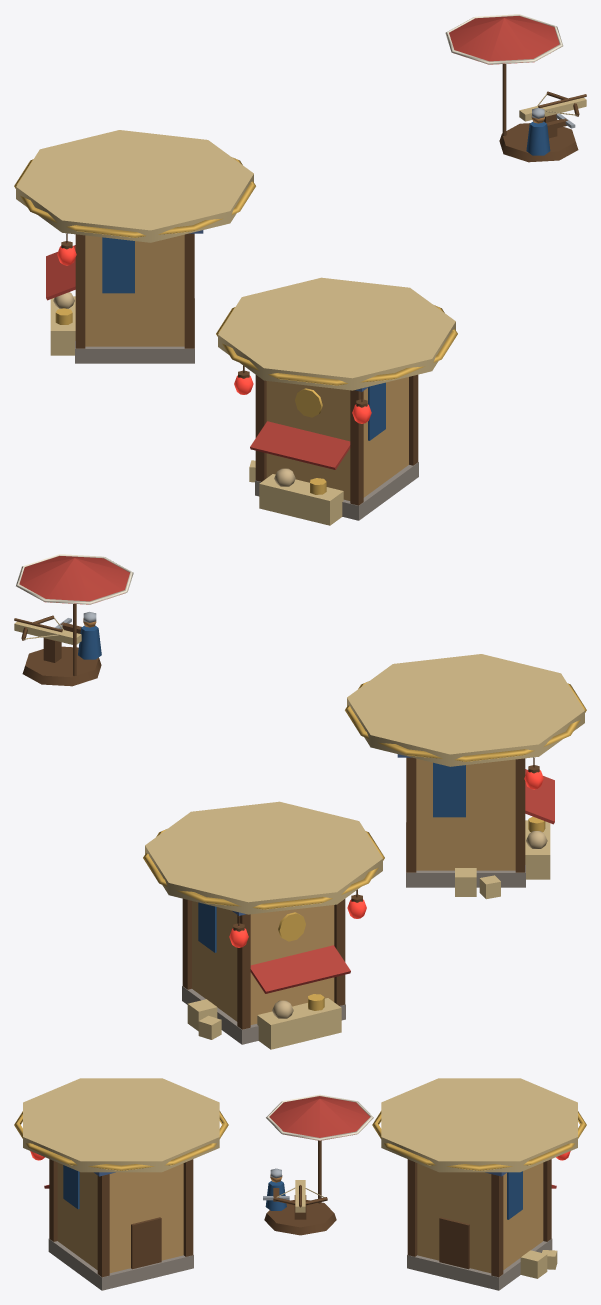
File: base_merchant_weapon_2.glb
3 renders of one model, top to bottom at view 1: azimuth 30°, elevation 25°; view 2: azimuth 150°, elevation 25°; view 3: azimuth 270°, elevation 25°, orthographic. The views are drawn at different scales.
Parts seen in each view (by area): view 1: tower_slot_2_plate, tower_slot_1_plate, tower_slot_1_house, tower_slot_2_house, parasol, tower_slot_2_awning, tower_slot_2_counter, tower_slot_1_plinth, tower_slot_1_banner, weapon_mount, tower_slot_2_plinth, tower_slot_2_trim (+11 smaller); view 2: tower_slot_1_plate, tower_slot_2_plate, tower_slot_2_house, tower_slot_1_house, parasol, tower_slot_1_awning, tower_slot_1_counter, weapon_mount, tower_slot_2_banner_2, tower_slot_2_plinth, tower_slot_1_trim, tower_slot_2_trim (+13 smaller); view 3: tower_slot_1_plate, tower_slot_2_plate, tower_slot_2_house, tower_slot_1_house, parasol, tower_slot_2_plinth, tower_slot_1_plinth, weapon_mount, tower_slot_1_door, tower_slot_2_door, tower_slot_1_post_2, tower_slot_2_post_3 (+12 smaller).
Part boxes in pixels (left/top/right/bottom): tower_slot_2_plate: left=218, top=277, right=455, bottom=390; tower_slot_1_plate: left=16, top=130, right=253, bottom=242; tower_slot_1_house: left=85, top=234, right=184, bottom=346; tower_slot_2_house: left=266, top=377, right=408, bottom=500; parasol: left=449, top=16, right=559, bottom=64; tower_slot_2_awning: left=250, top=421, right=350, bottom=469; tower_slot_2_counter: left=259, top=474, right=343, bottom=525; tower_slot_1_plinth: left=75, top=298, right=194, bottom=363; tower_slot_1_banner: left=102, top=237, right=134, bottom=293; weapon_mount: left=499, top=123, right=578, bottom=162; tower_slot_2_plinth: left=255, top=462, right=418, bottom=520; tower_slot_2_trim: left=216, top=305, right=457, bottom=385; tower_slot_1_plate: left=145, top=801, right=382, bottom=914; tower_slot_2_plate: left=347, top=654, right=584, bottom=766; tower_slot_2_house: left=416, top=758, right=515, bottom=870; tower_slot_1_house: left=192, top=901, right=334, bottom=1024; parasol: left=19, top=556, right=129, bottom=604; tower_slot_1_awning: left=250, top=945, right=350, bottom=993; tower_slot_1_counter: left=257, top=998, right=341, bottom=1049; weapon_mount: left=22, top=646, right=101, bottom=686; tower_slot_2_banner_2: left=433, top=762, right=465, bottom=817; tower_slot_2_plinth: left=406, top=822, right=525, bottom=887; tower_slot_1_trim: left=143, top=829, right=384, bottom=909; tower_slot_2_trim: left=345, top=681, right=586, bottom=761; tower_slot_1_plate: left=381, top=1078, right=577, bottom=1172; tower_slot_2_plate: left=23, top=1078, right=219, bottom=1172; tower_slot_2_house: left=57, top=1163, right=183, bottom=1273; tower_slot_1_house: left=417, top=1163, right=543, bottom=1273; parasol: left=269, top=1096, right=369, bottom=1140; tower_slot_2_plinth: left=48, top=1239, right=193, bottom=1290; tower_slot_1_plinth: left=407, top=1239, right=552, bottom=1290; weapon_mount: left=264, top=1200, right=336, bottom=1235; tower_slot_1_door: left=439, top=1217, right=469, bottom=1269; tower_slot_2_door: left=131, top=1217, right=161, bottom=1269; tower_slot_1_post_2: left=491, top=1174, right=503, bottom=1277; tower_slot_2_post_3: left=97, top=1174, right=109, bottom=1277.
Bounding box in the file's own units: 0.963 × 0.6435 × 1.18.
